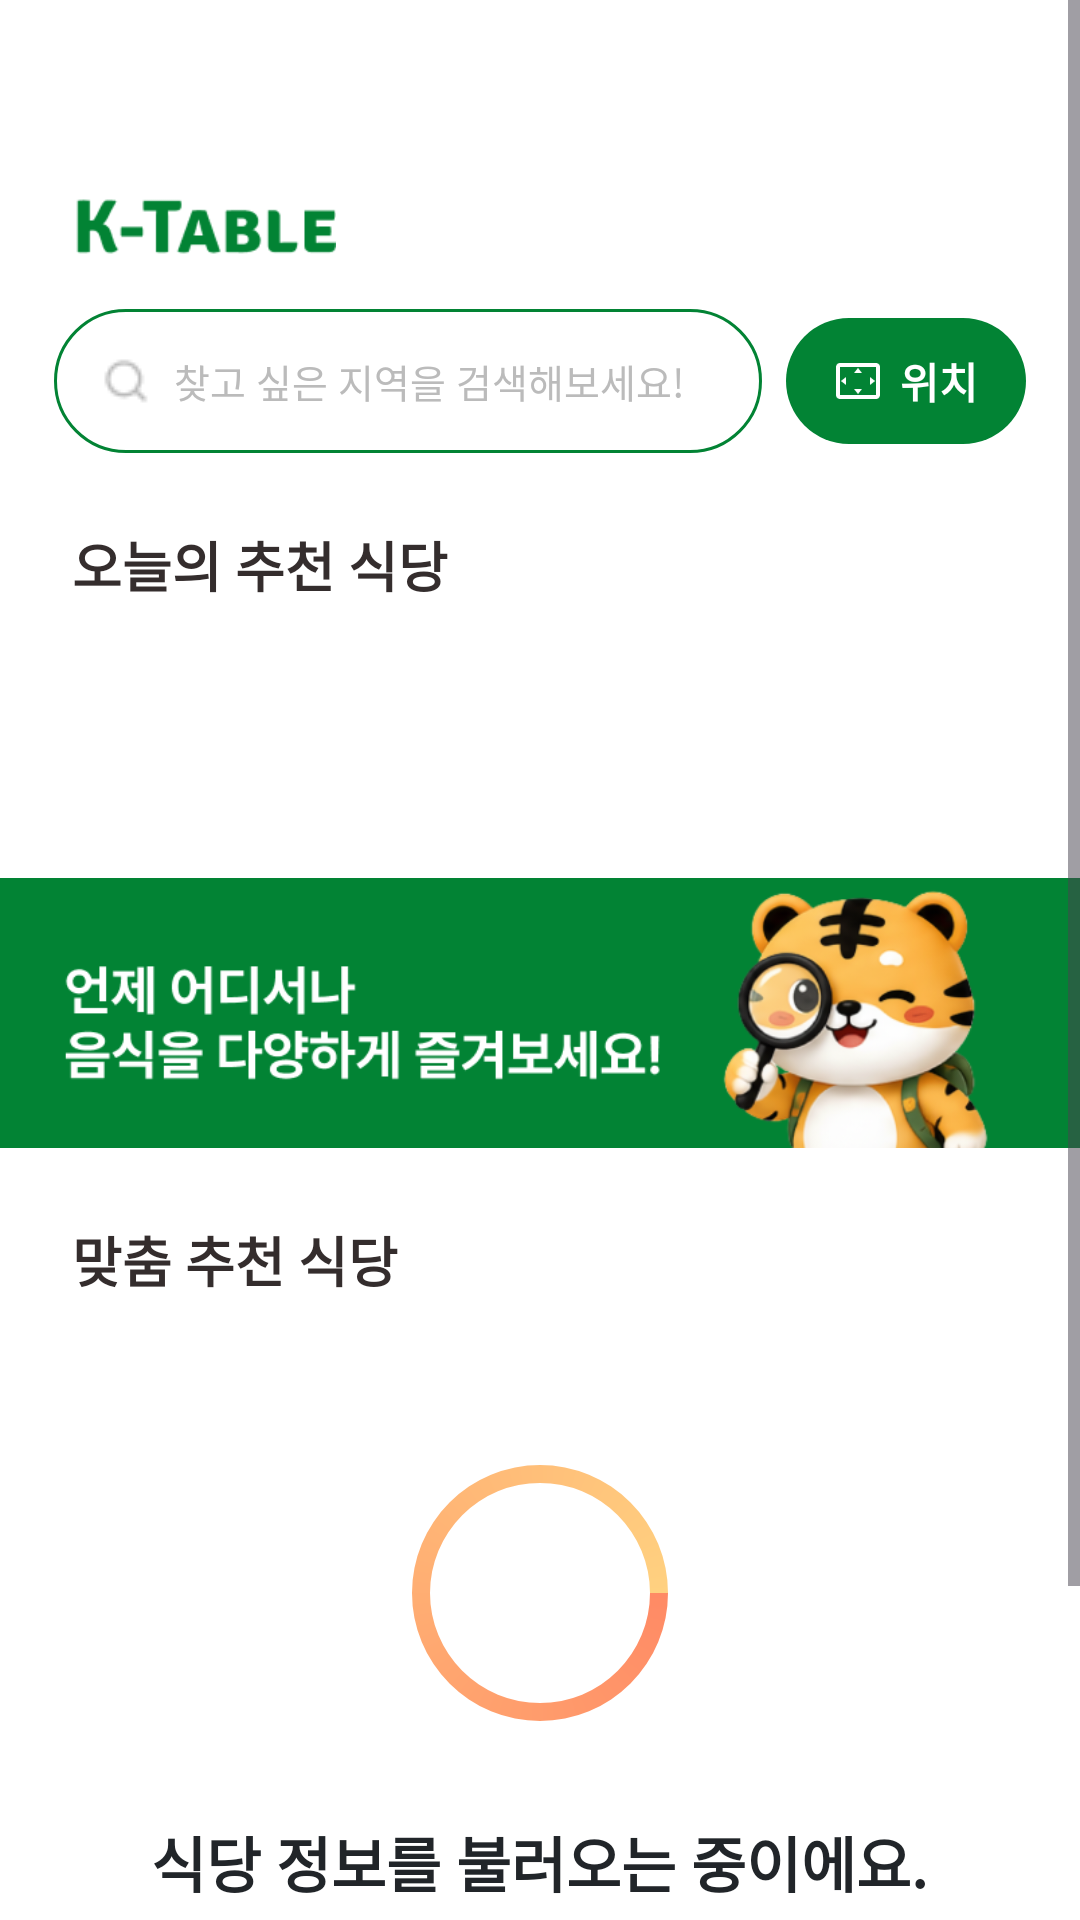

Icons on this 1080×1920 Android screen, each with the point to tap as point (x, y):
mylocation: point (858, 381)
